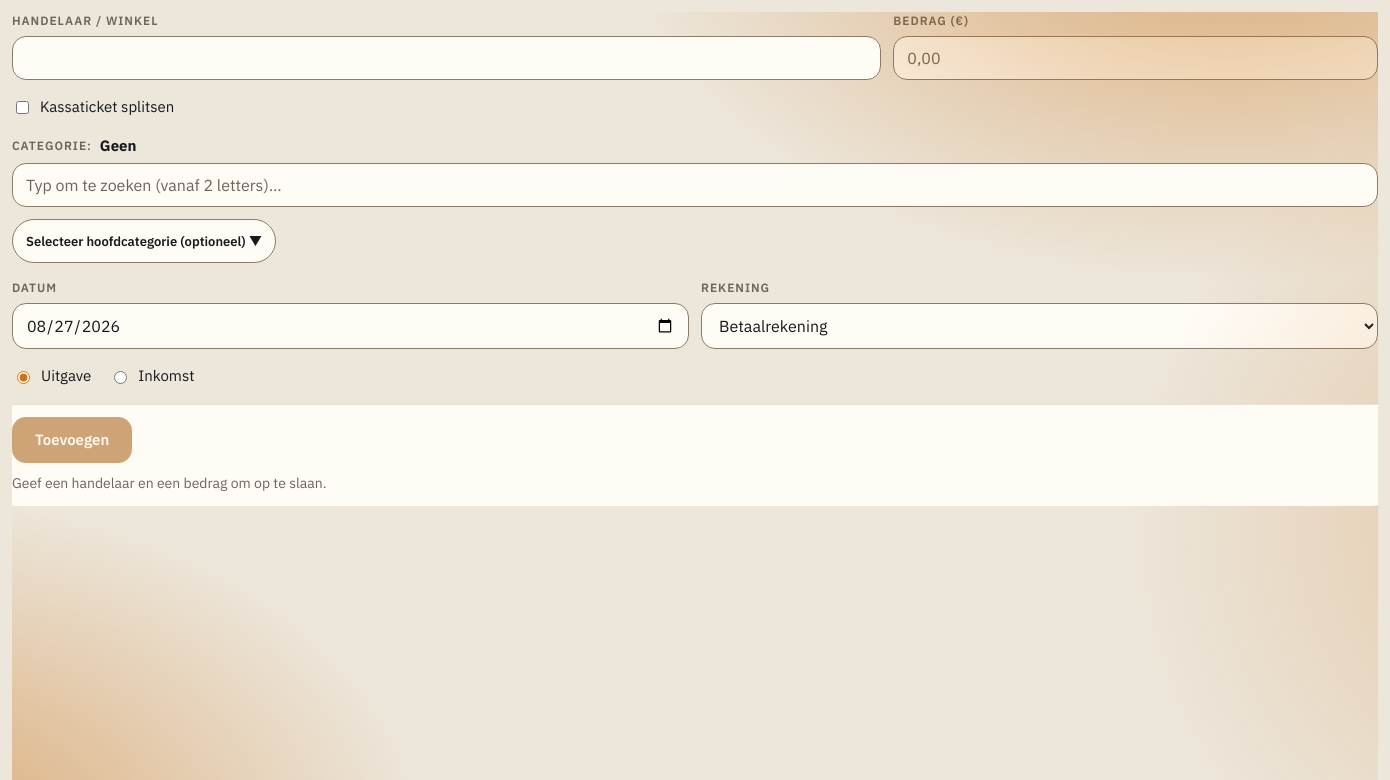
Test: TransactieFormulier › stelt eerder gebruikte handelaars voor vanaf twee letters
In the dropdown labelled "Handelaar / winkel": (447, 58) [12, 36, 881, 80], type "co"
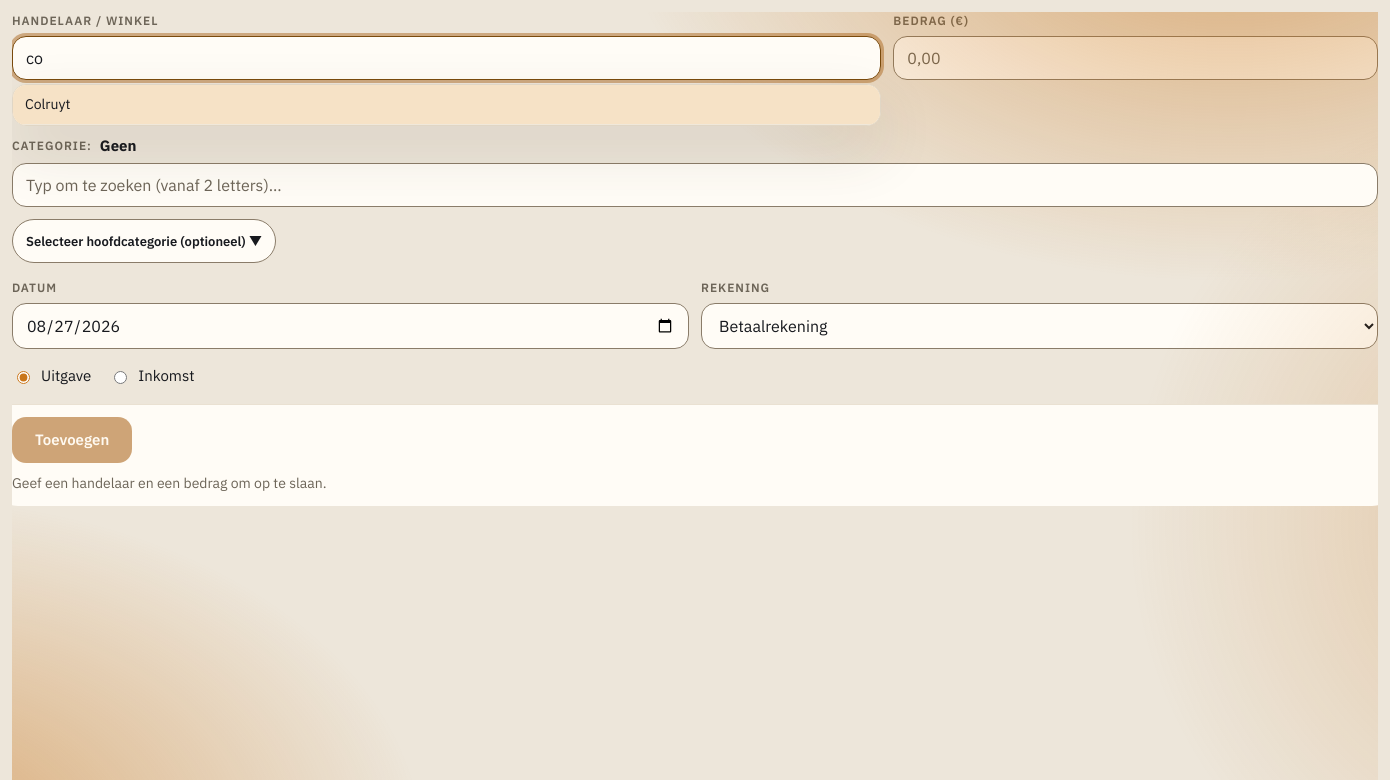
Now the option "Colruyt" is shown, box [13, 85, 880, 125]
